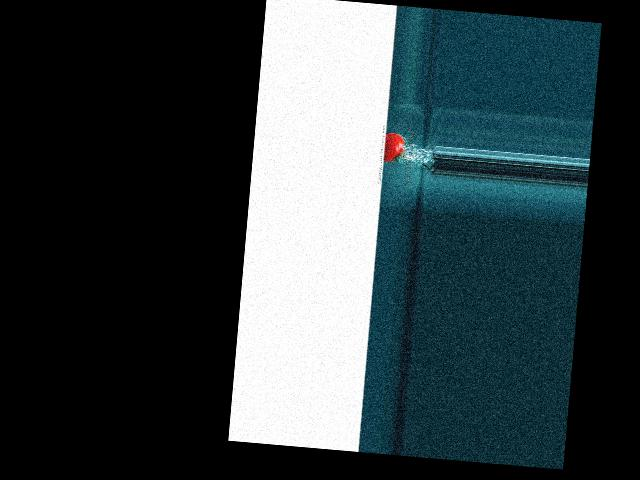tomato: (383, 133, 405, 163)
